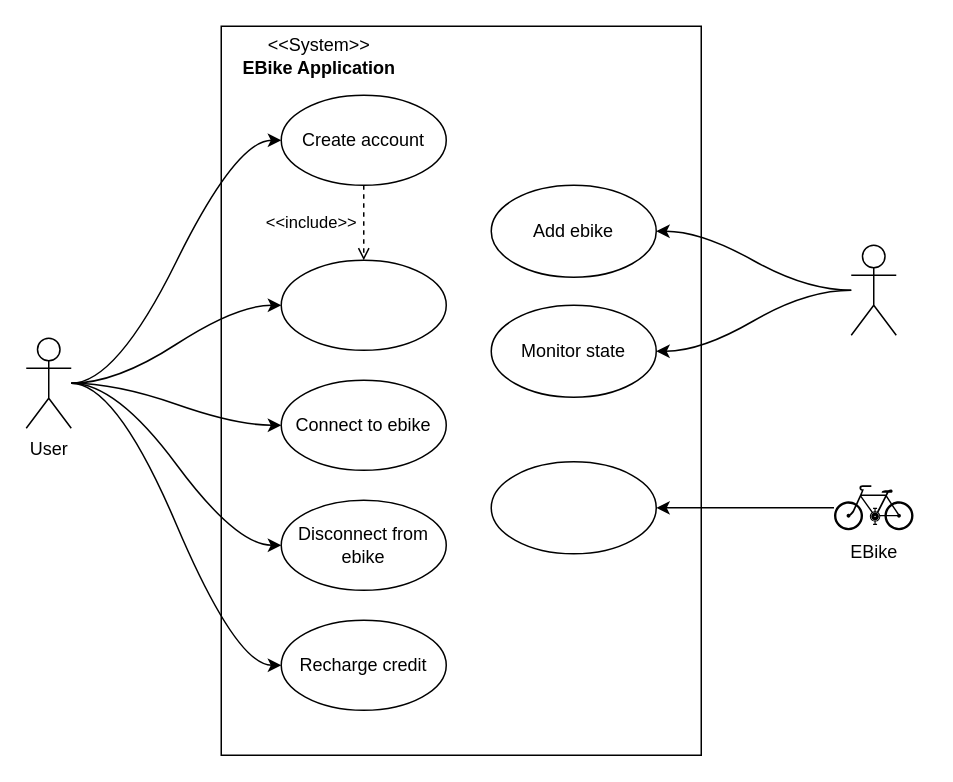
Image size: 953x782. Some labels were removed from this diagram. The shapes that lost their labels are listed below. From the top down, each one's centre as x and y in pixels, then its label:
At (363,304): "Login".
At (873,289): "Administrator".
At (573,507): "Notify ebike state".
